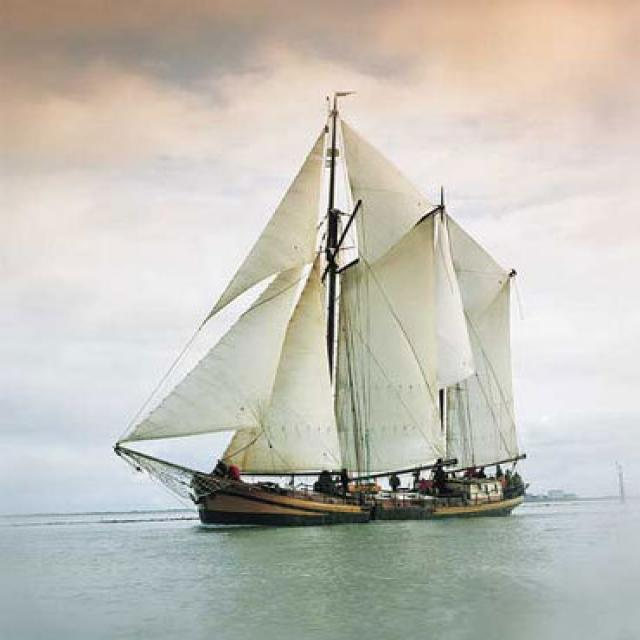Ship: (117, 100, 537, 530)
